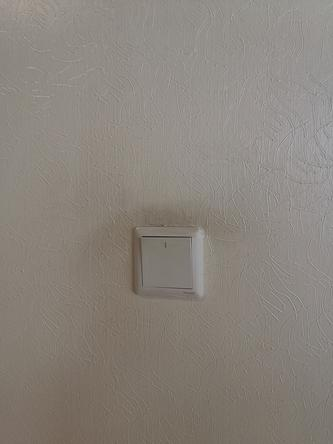switch: (138, 229, 197, 293)
